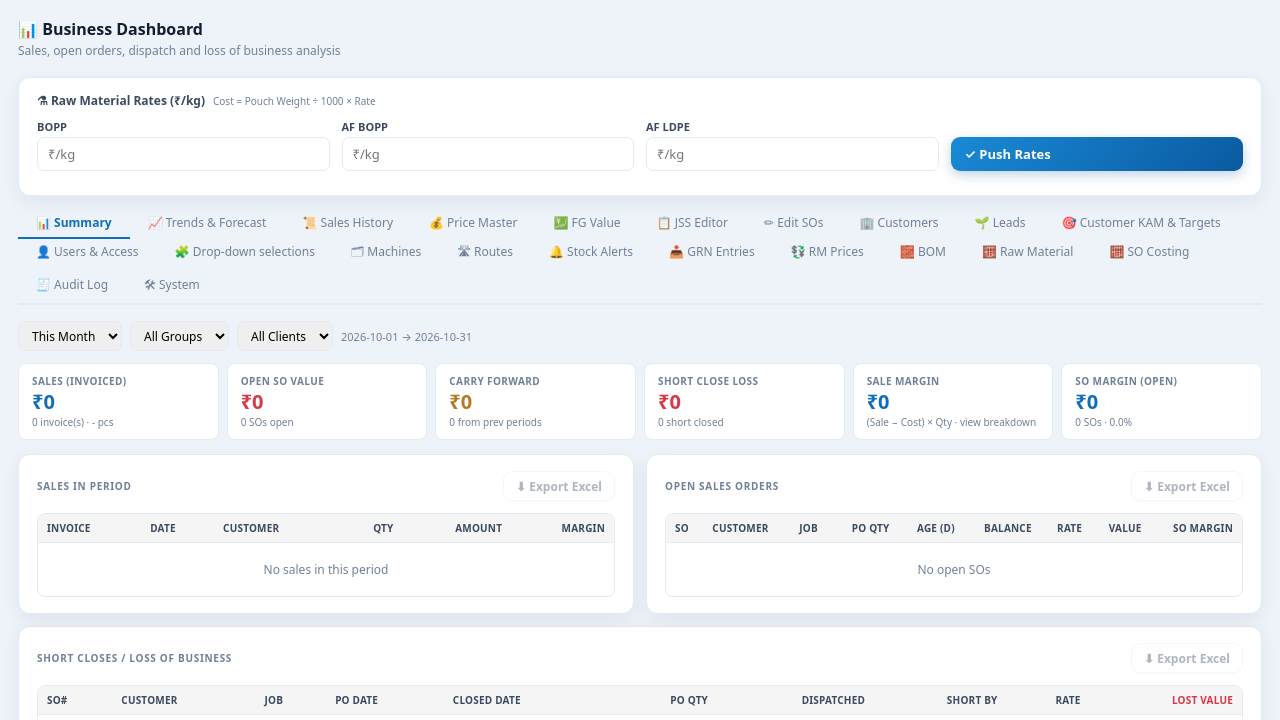
Trends & Forecast — material › folds the spellings of one JSS material into one line
Click the text "📈 Trends & Forecast".
click(207, 222)  # box x1=148 y1=214 x2=266 y2=231
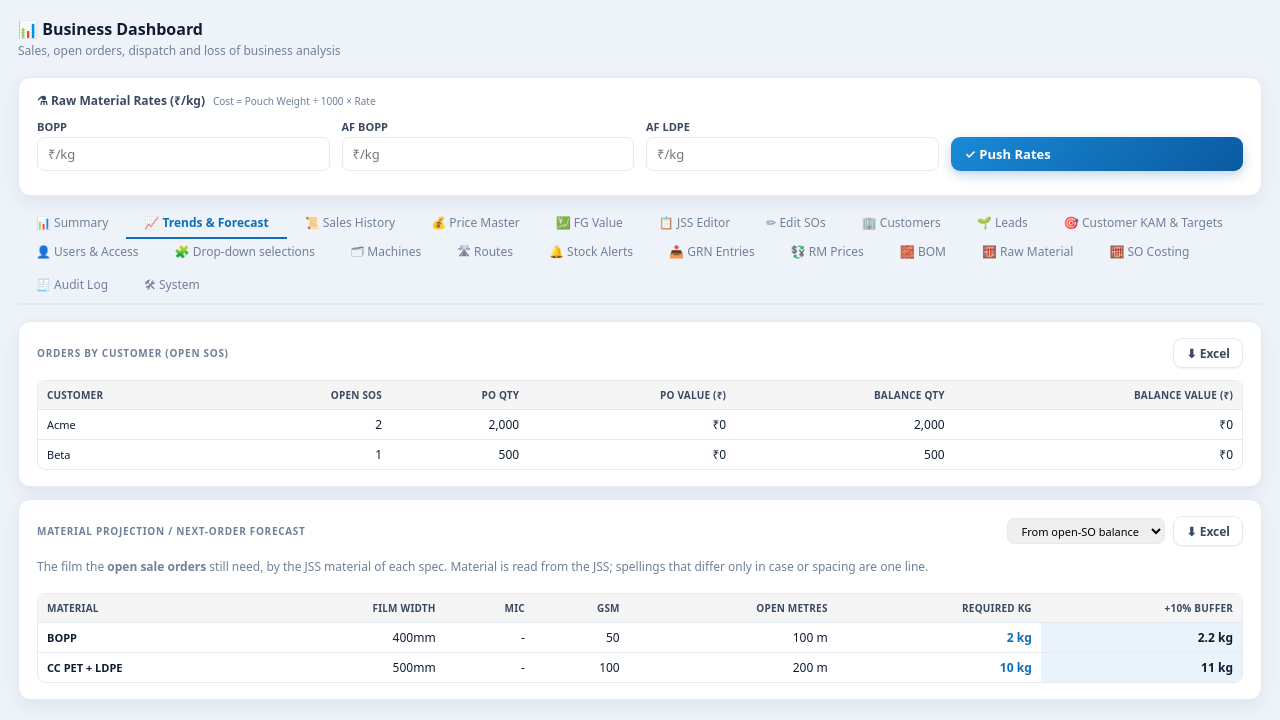
Expected: the cell "200 m" is shown, x1=629 y1=652 x2=837 y2=682
